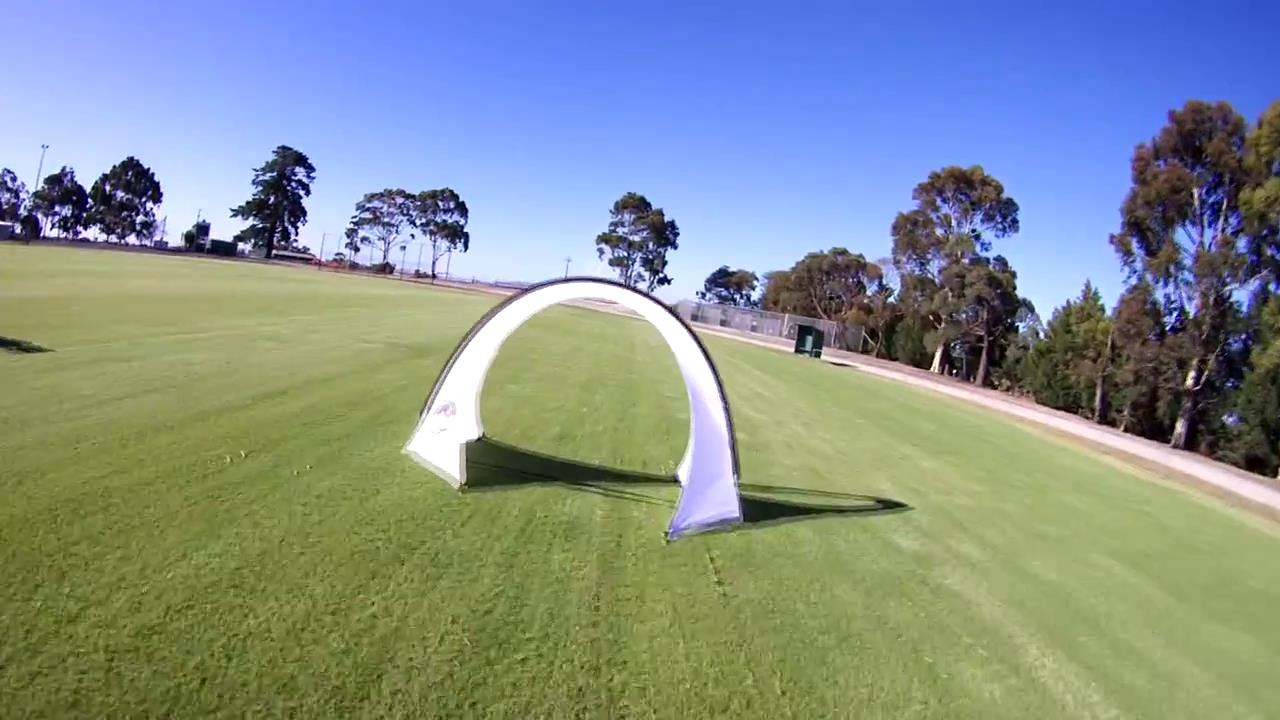gate: (400, 274, 747, 551)
